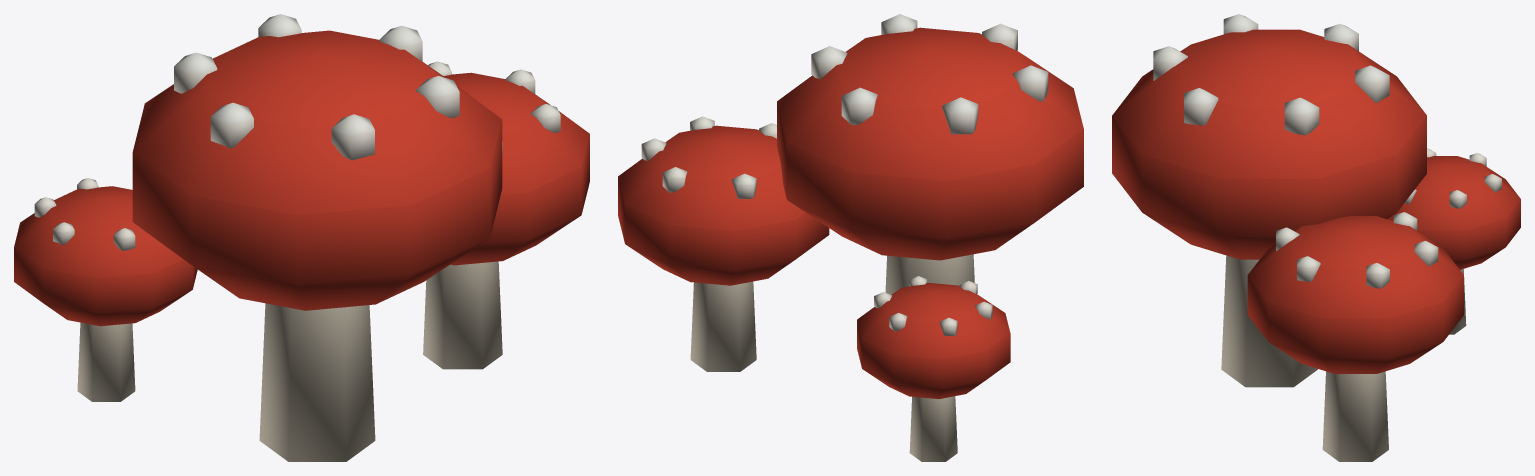
File: mushroom_red.glb
3 views of the same model, side by side, from view 1: azimuth 30°, elevation 25°; view 2: azimuth 150°, elevation 25°; view 3: azimuth 270°, elevation 25° (orthographic). The views are drawn at different scales.
Visible parts, largest first — view 1: Mushrooms; view 2: Mushrooms; view 3: Mushrooms.
Boxes of the visible parts, box(x1,y1,x2,y2) form: Mushrooms: box(14, 14, 589, 461); Mushrooms: box(618, 14, 1083, 461); Mushrooms: box(1112, 14, 1520, 461).
Bounding box in the file's own units: 0.5462 × 0.408 × 0.4739.
